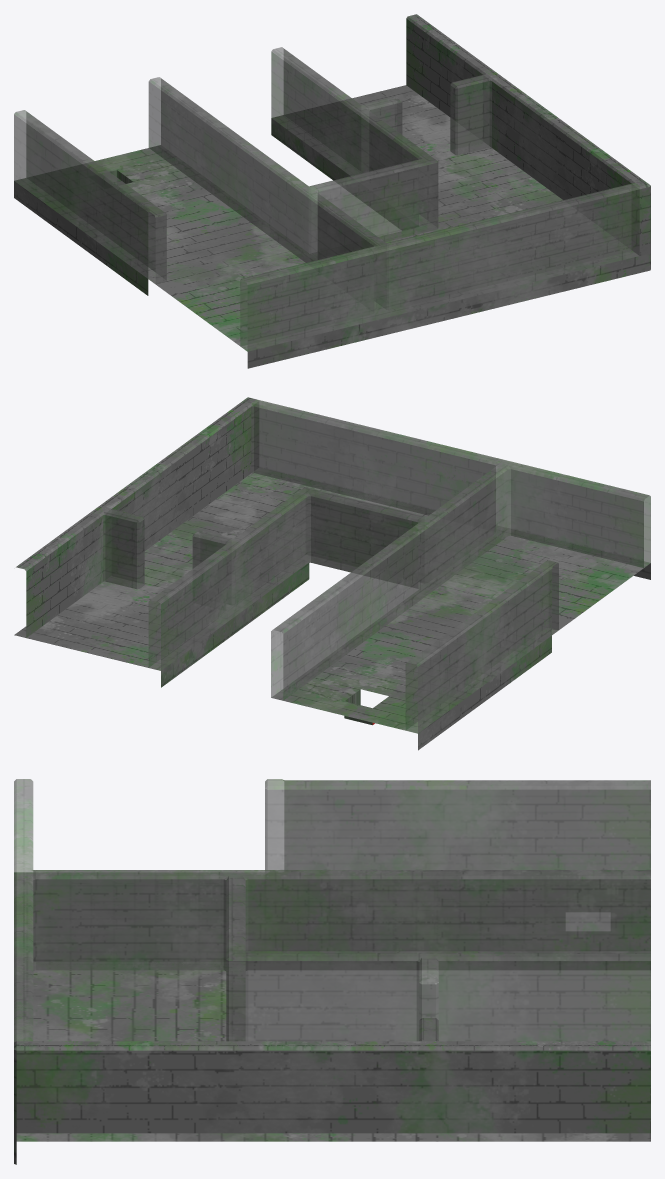
Rendered from lvl_1-cnk_5.obj.
3 renders of one model, top to bottom at view 1: azimuth 30°, elevation 25°; view 2: azimuth 150°, elevation 25°; view 3: azimuth 270°, elevation 25°, orthographic. The views are drawn at different scales.
Visible parts, largest first — view 1: Cube.185, Cube.188, Cube.186, Cube.187, Cube.189; view 2: Cube.185, Cube.188, Cube.186, Cube.187, Cube.189; view 3: Cube.188, Cube.185, Cube.186, Cube.187.
Part boxes in pixels (x1,y1,x2,y2): Cube.185: [14, 85, 650, 368]; Cube.188: [148, 47, 639, 351]; Cube.186: [406, 14, 650, 255]; Cube.187: [14, 110, 166, 284]; Cube.189: [450, 74, 491, 155]; Cube.185: [14, 468, 650, 750]; Cube.188: [148, 399, 650, 700]; Cube.186: [16, 397, 258, 637]; Cube.187: [405, 560, 558, 732]; Cube.189: [103, 508, 144, 589]; Cube.188: [14, 779, 650, 1041]; Cube.185: [14, 872, 650, 1164]; Cube.186: [14, 1041, 650, 1141]; Cube.187: [265, 779, 650, 870].
Size of the model in its own units: 99 by 20 by 99.
4 materials, 4 textured.
